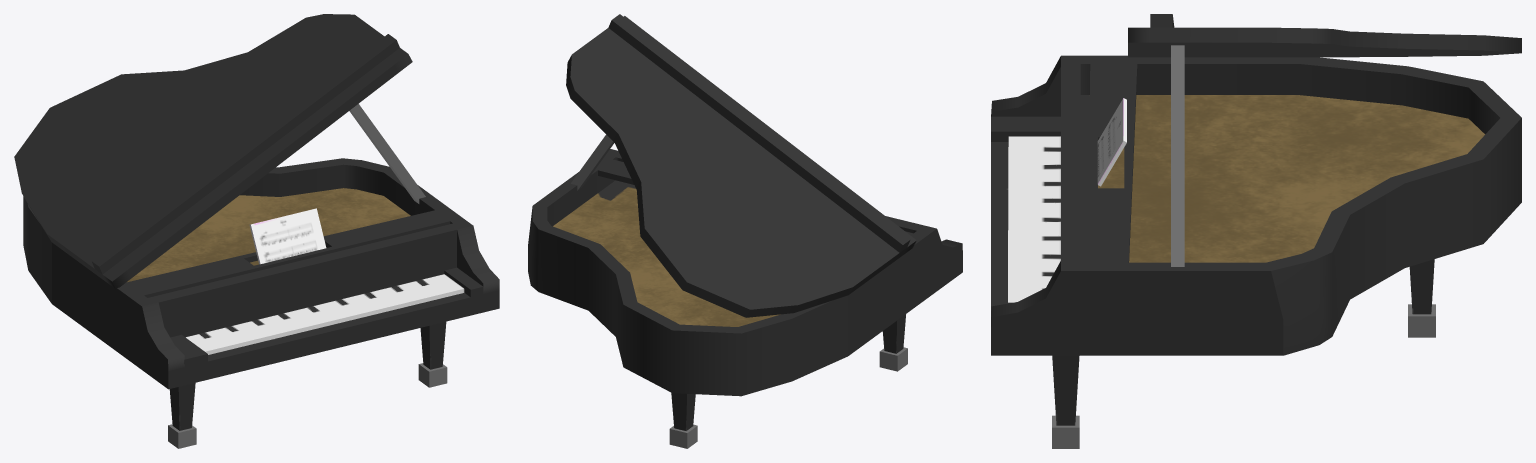
Rendered from piano.fbx.
3 renders of one model, left to right at view 1: azimuth 30°, elevation 25°; view 2: azimuth 150°, elevation 25°; view 3: azimuth 270°, elevation 25°, orthographic. The views are drawn at different scales.
Parts seen in each view (by area): view 1: polySurface379; view 2: polySurface379; view 3: polySurface379.
Part boxes in pixels (box(x1,y1,x2,y2)): polySurface379: box(14, 14, 499, 448); polySurface379: box(528, 14, 962, 448); polySurface379: box(991, 14, 1521, 448).
Size of the model in its own units: 2.17 by 1.96 by 2.21.
Materials: 1 (1 with a texture image).
